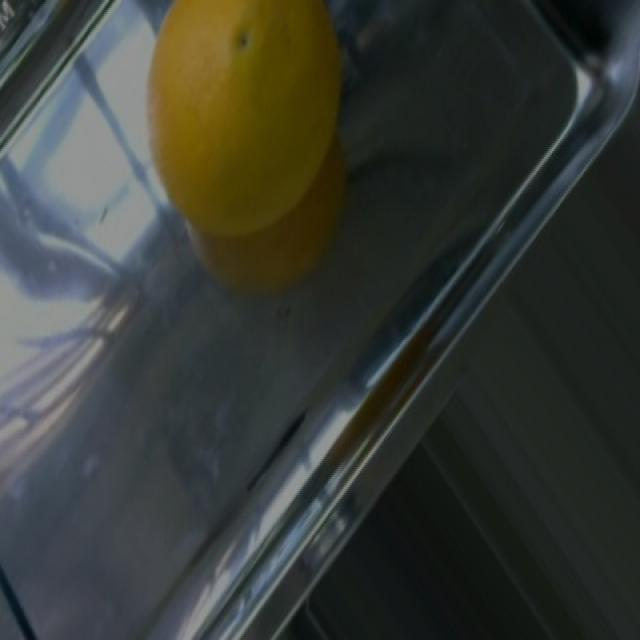Fruit: (129, 0, 374, 276)
